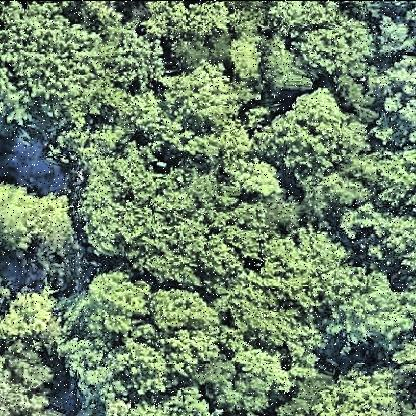tree-top: (3, 1, 107, 146), (151, 169, 261, 282), (274, 91, 373, 185), (160, 65, 250, 157), (267, 1, 370, 74), (324, 267, 407, 357), (1, 181, 84, 267), (84, 258, 154, 341), (337, 204, 416, 258), (308, 368, 395, 416), (1, 279, 59, 349), (199, 357, 268, 415), (138, 1, 234, 41), (4, 345, 58, 416), (368, 54, 416, 131), (110, 28, 164, 90), (365, 141, 416, 202), (376, 16, 414, 54)
